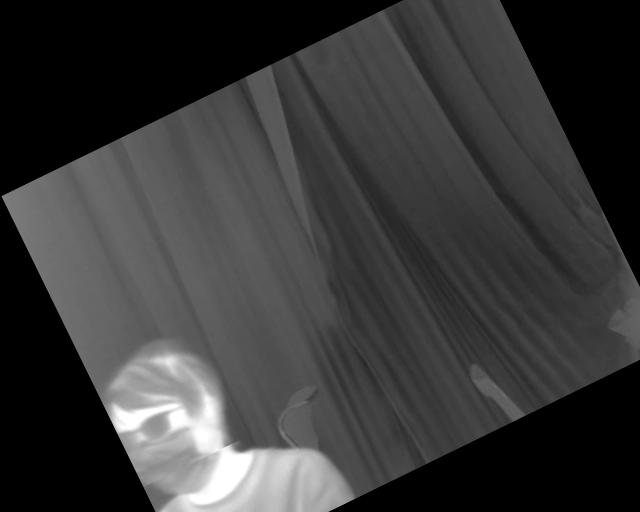face: (91, 323, 260, 511)
